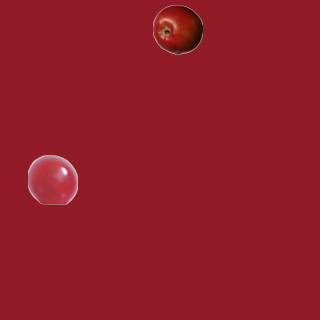Apple Braeburn: (152, 4, 202, 54)
Redcurrant: (27, 154, 77, 204)
